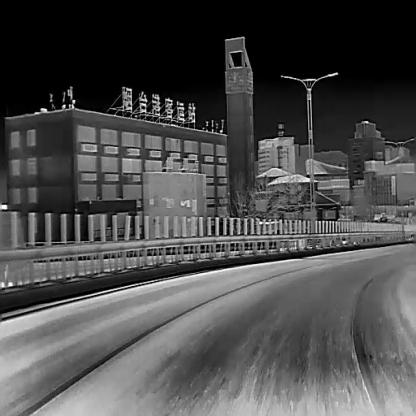car: (371, 211, 387, 222)
